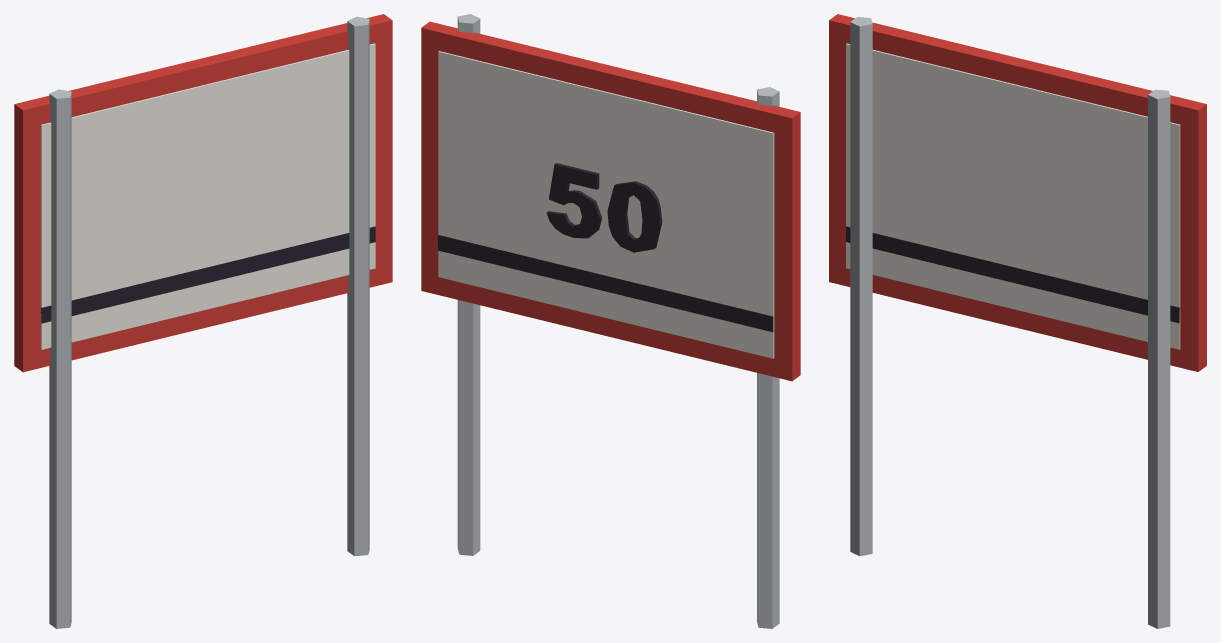
The model's file is distance_board_50.glb.
The picture shows the model from 3 angles, left to right: view 1: azimuth 30°, elevation 25°; view 2: azimuth 150°, elevation 25°; view 3: azimuth 330°, elevation 25°; orthographic projection.
Visible parts, largest first — view 1: distance_board_50; view 2: distance_board_50; view 3: distance_board_50.
Part boxes in pixels (x1,y1,x2,y2): distance_board_50: (14, 14, 392, 628); distance_board_50: (421, 14, 800, 628); distance_board_50: (829, 14, 1206, 628).
Size of the model in its own units: 1.24 by 1.7 by 0.1153.
